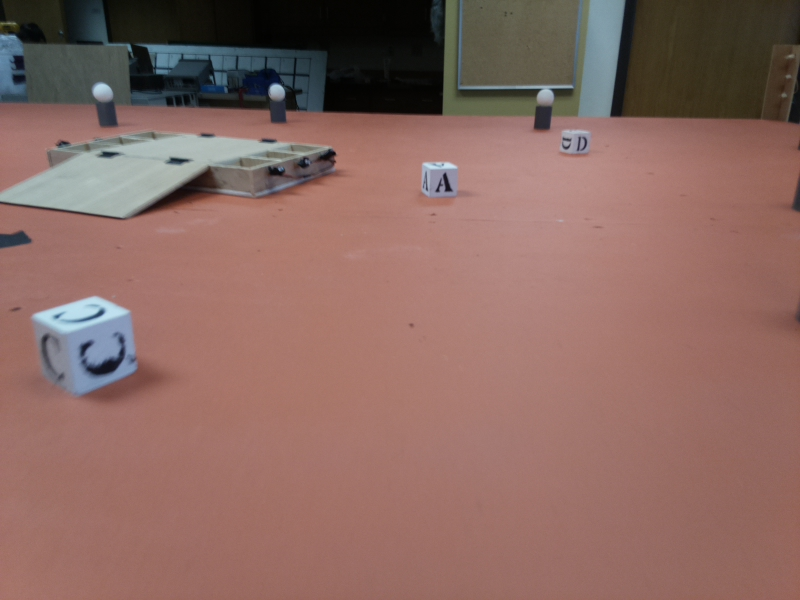blockA: (422, 162, 456, 200)
blockC: (40, 293, 136, 393)
blockD: (561, 129, 590, 154)
corner: (768, 44, 797, 119)
obstacle: (530, 89, 557, 133), (93, 83, 118, 128), (266, 84, 288, 124)
side: (19, 149, 208, 215), (223, 148, 343, 189)
